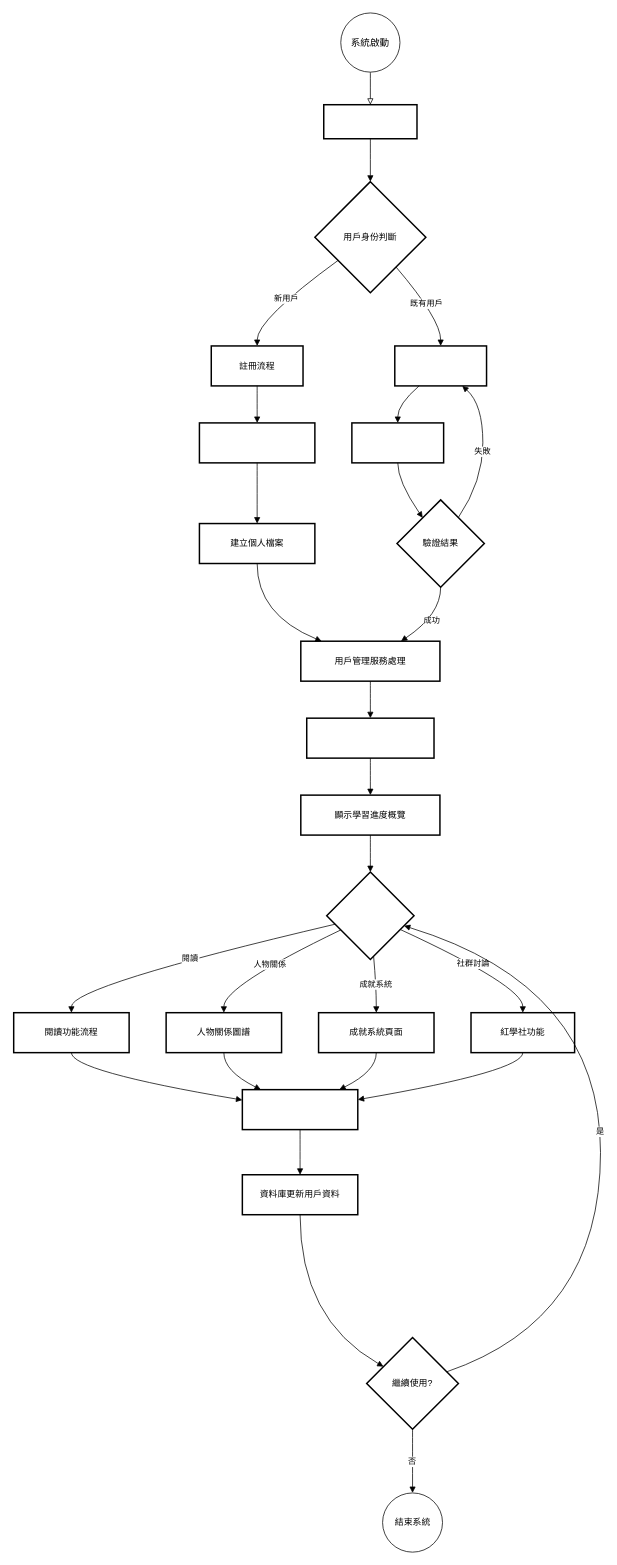
Some shapes in this 617 by 1565 pixel diagram are drawn without their labels. Each missing label, with the centre of its shape:
"填寫初步表單" belongs at pixel 256 442.
"用戶學習行為追蹤" belongs at pixel 299 1109.
"登入流程" belongs at pixel 440 365.
"身份驗證" belongs at pixel 397 442.
"載入個人化首頁" belongs at pixel 370 737.
"選擇功能" belongs at pixel 370 915.
"顯示介紹頁面" belongs at pixel 370 121.
